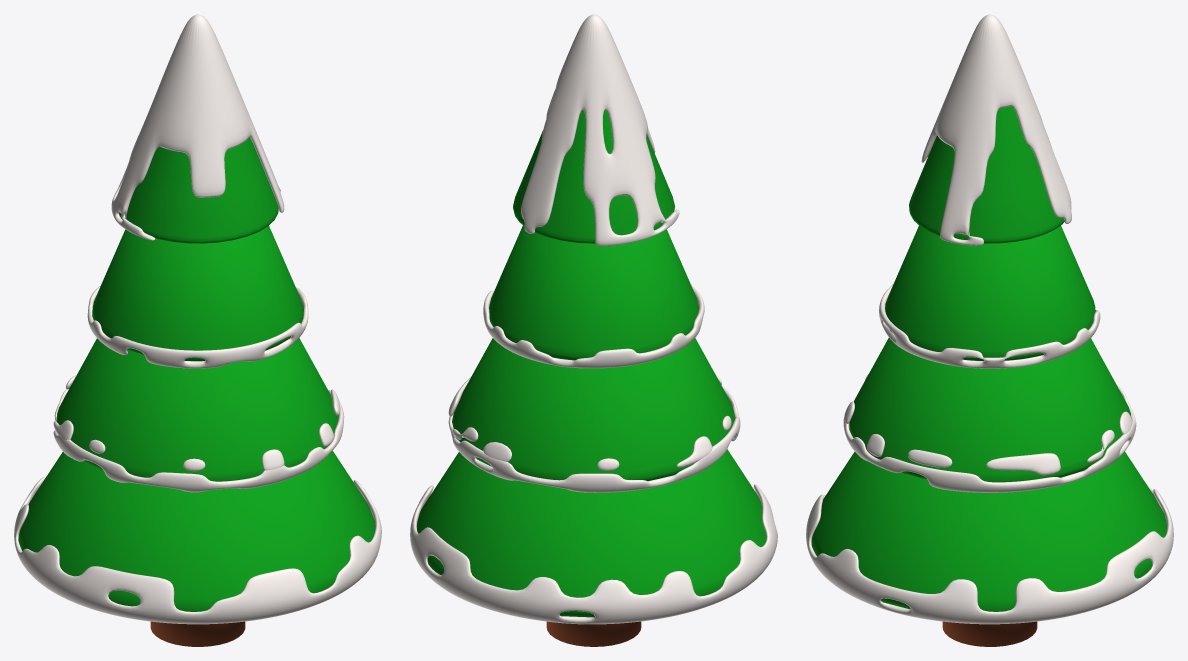
File: christmas-tree-simple.glb
The picture shows the model from 3 angles, left to right: view 1: azimuth 30°, elevation 25°; view 2: azimuth 150°, elevation 25°; view 3: azimuth 270°, elevation 25°; orthographic projection.
Parts seen in each view (by area): view 1: Cylinder.014, Cylinder.023; view 2: Cylinder.014, Cylinder.023; view 3: Cylinder.014, Cylinder.023.
Boxes of the visible parts, x1=… form: Cylinder.014: x1=18, y1=137, x2=375, y2=646; Cylinder.023: x1=14, y1=14, x2=381, y2=624; Cylinder.014: x1=416, y1=110, x2=766, y2=646; Cylinder.023: x1=410, y1=14, x2=777, y2=624; Cylinder.014: x1=811, y1=106, x2=1166, y2=646; Cylinder.023: x1=806, y1=14, x2=1173, y2=624.
Size of the model in its own units: 13.11 by 24.11 by 13.11.
